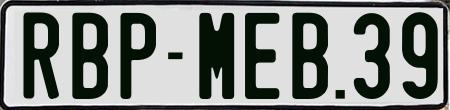3: (353, 13, 391, 100)
9: (400, 12, 433, 102)
B: (70, 11, 110, 103), (291, 11, 330, 101)
E: (244, 10, 282, 96)
M: (196, 13, 235, 100)
P: (117, 13, 154, 102)
R: (21, 11, 60, 101)
